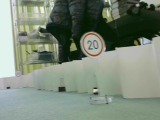speed_20: (78, 31, 107, 58)
